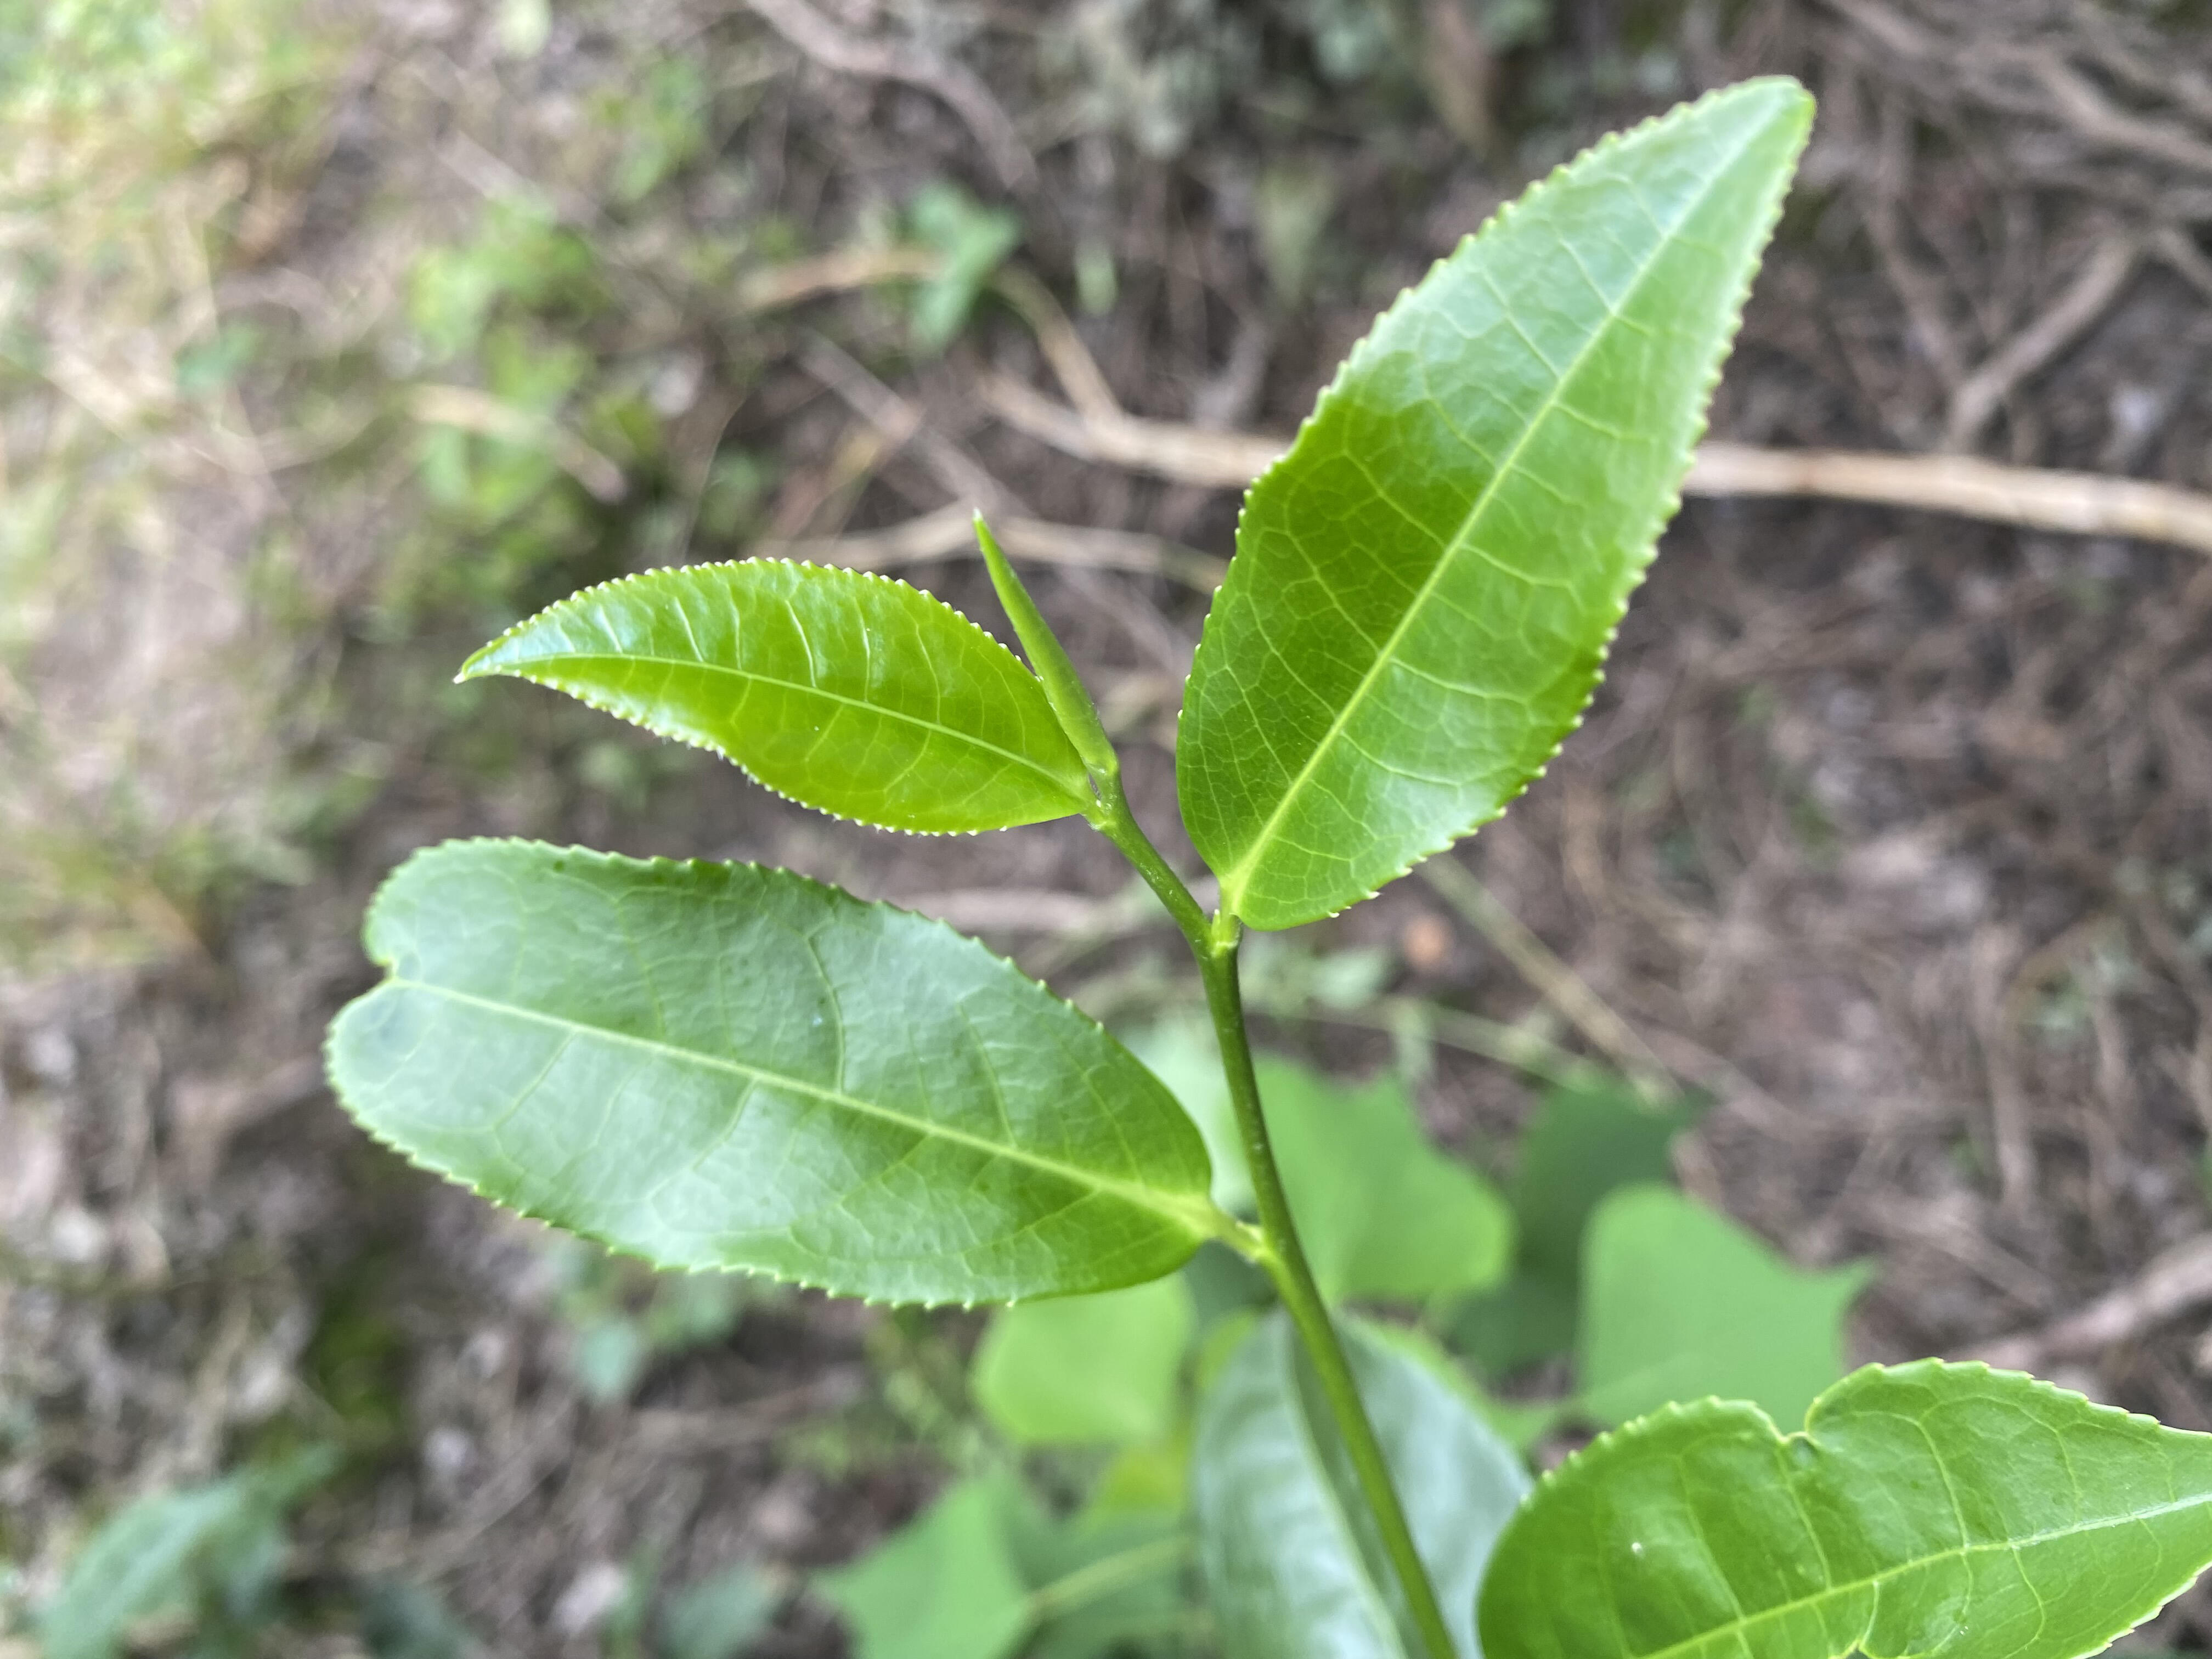healthy: (1177, 73, 1820, 934), (322, 833, 1217, 1312), (1474, 1356, 2210, 1656), (451, 558, 1096, 842)
